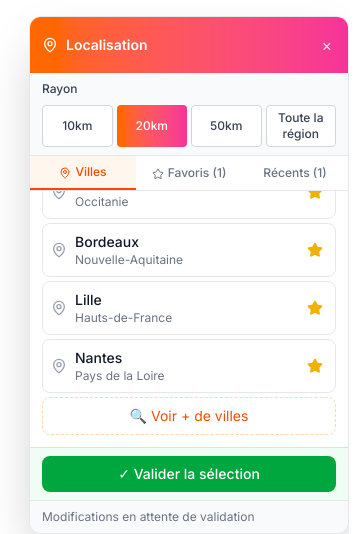
Test: LocationDropdown › Recherche avancée › ouvre la recherche avancée au clic
(page scrolled)
Cliquer sur "Voir + de villes"
Click the button "🔍 Voir + de villes".
click(189, 416)  # box [42, 397, 336, 435]
(page scrolled)
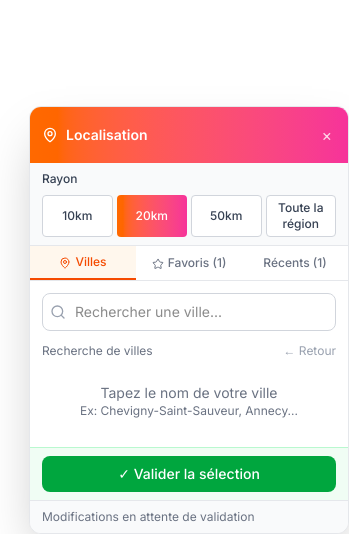
Expected: the text "Recherche de villes" is shown, [42, 343, 153, 359]
